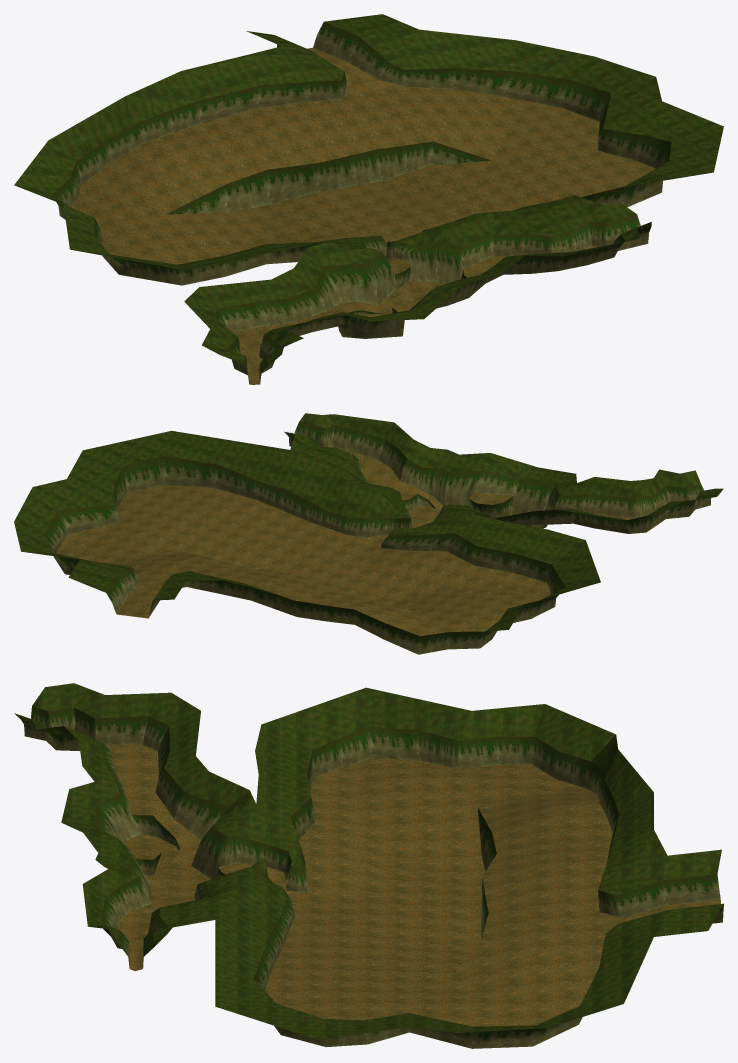
Rendered from deepWoods_02.fbx.
The picture shows the model from 3 angles, top to bottom: view 1: azimuth 30°, elevation 25°; view 2: azimuth 150°, elevation 25°; view 3: azimuth 270°, elevation 25°; orthographic projection. The views are drawn at different scales.
Parts seen in each view (by area): view 1: polySurface5, polySurface1; view 2: polySurface5, polySurface1; view 3: polySurface5, polySurface1.
Boxes of the visible parts, x1,y1,x2,y2 form: polySurface5: (14, 14, 723, 384); polySurface1: (52, 22, 671, 383); polySurface5: (14, 413, 723, 636); polySurface1: (44, 422, 711, 654); polySurface5: (14, 683, 723, 1039); polySurface1: (21, 706, 723, 1048).
Size of the model in its own units: 380 by 49.33 by 338.
